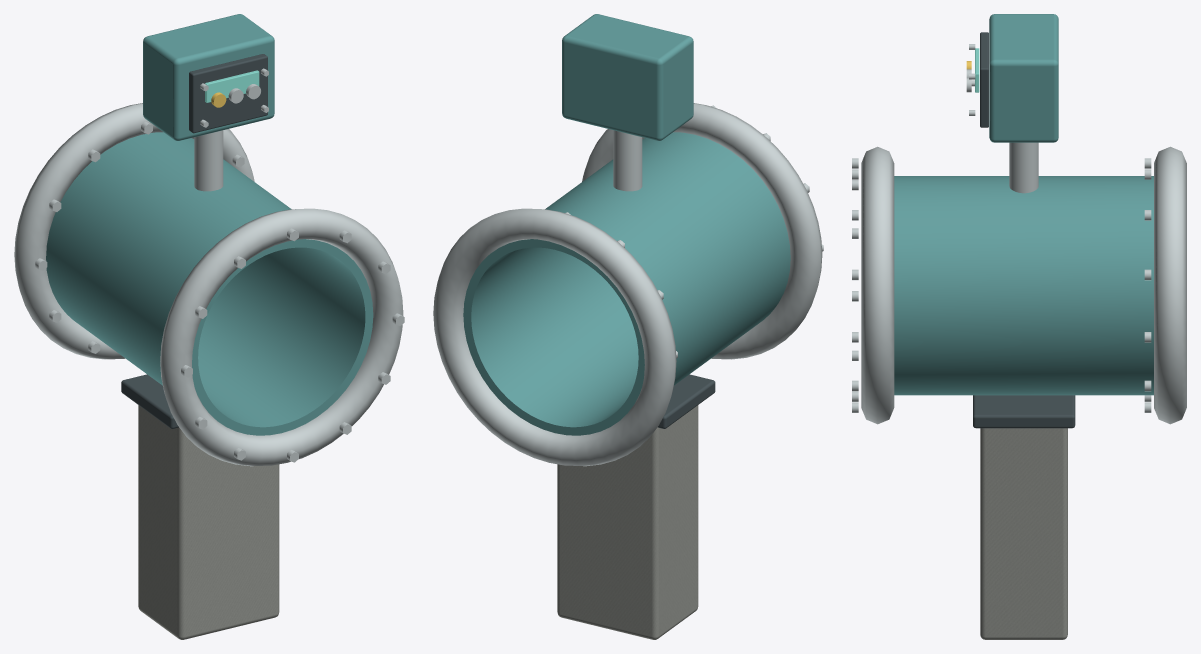
The model's file is hydroelectric-dam-infiltration-flow-meter-7700efdc__29365.glb.
3 views of the same model, side by side, from view 1: azimuth 30°, elevation 25°; view 2: azimuth 150°, elevation 25°; view 3: azimuth 270°, elevation 25° (orthographic).
Visible parts, largest first — view 1: flow-meter; view 2: flow-meter; view 3: flow-meter.
Part boxes in pixels (box(x1,y1,x2,y2)): flow-meter: box(14, 14, 404, 639); flow-meter: box(433, 14, 823, 639); flow-meter: box(852, 14, 1186, 639).
Size of the model in its own units: 0.76 by 1.75 by 0.915.
6 materials, 1 textured.
